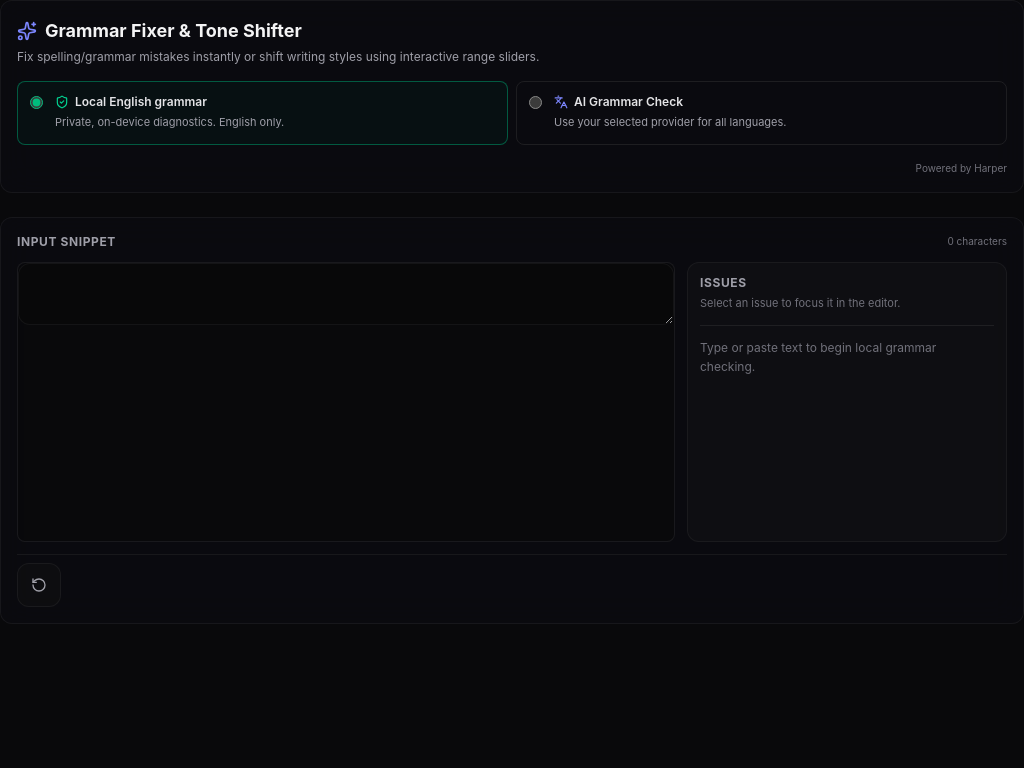
GrammarWorkspace › omits a local manual action while retaining explicit AI grammar and tone actions
The image size is (1024, 768).
Expected: the button "Run AI Grammar Check" is not shown
Step 1. Click the radio button labelled "AI Grammar Check" → click(536, 102), box [529,96,542,109]
(page scrolled)
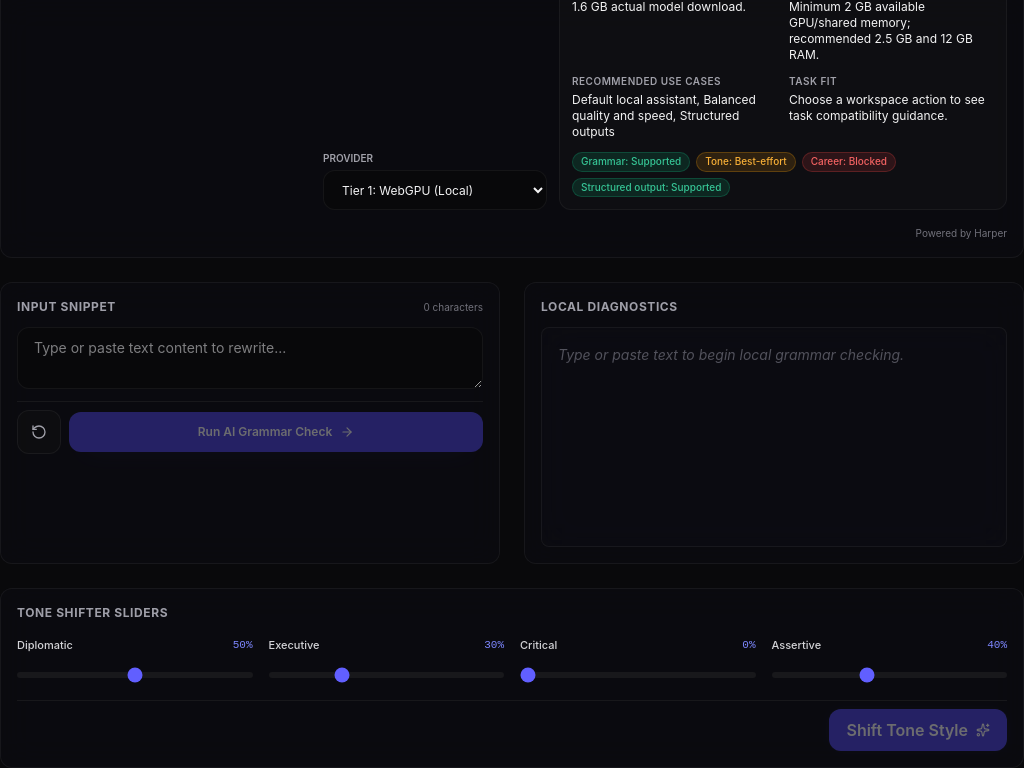
Result: the button "Run AI Grammar Check" is shown at [69,412,483,452]
Result: the button "Shift Tone Style" is shown at [830,708,1007,750]
